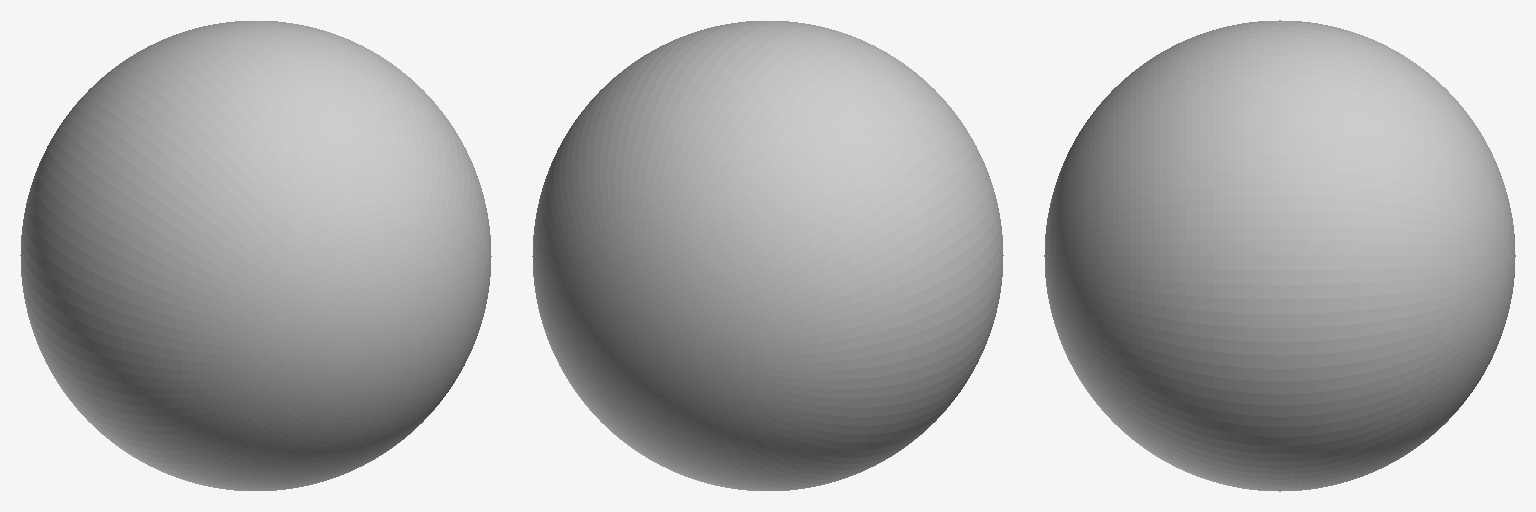
The model's file is venus.obj.
3 renders of one model, left to right at view 1: azimuth 30°, elevation 25°; view 2: azimuth 150°, elevation 25°; view 3: azimuth 270°, elevation 25°, orthographic.
Parts seen in each view (by area): view 1: Object.1; view 2: Object.1; view 3: Object.1.
Boxes of the visible parts, x1,y1,x2,y2 form: Object.1: [20, 21, 491, 490]; Object.1: [532, 21, 1003, 490]; Object.1: [1044, 20, 1515, 491].
Size of the model in its own units: 200 by 200 by 200.